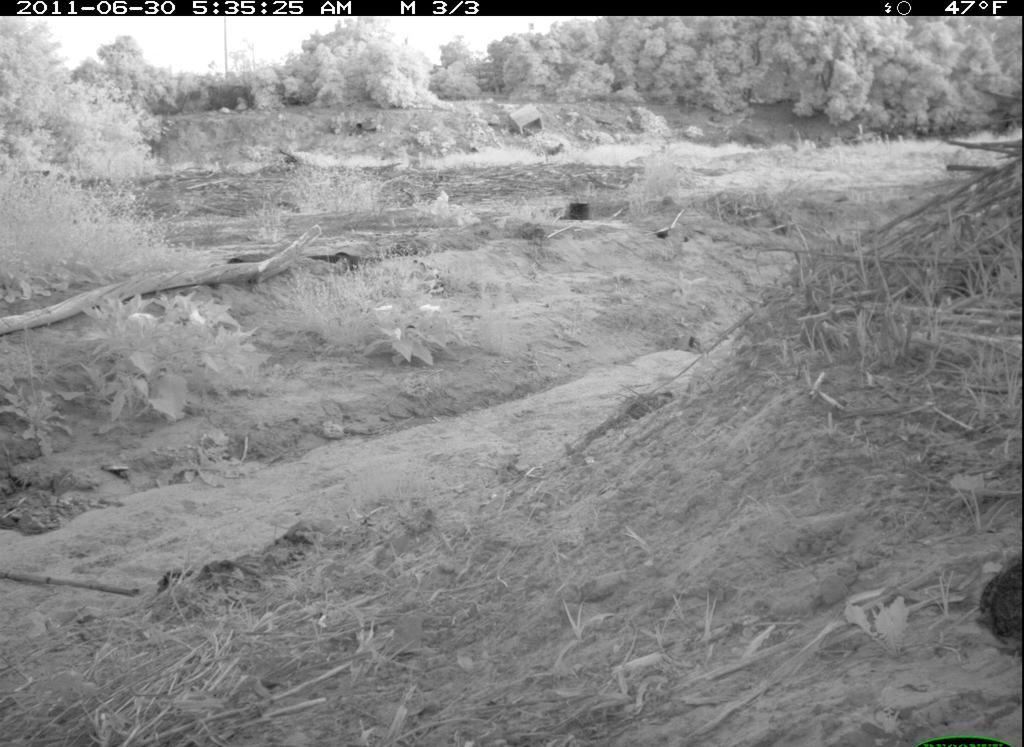rabbit: (978, 551, 1022, 665)
